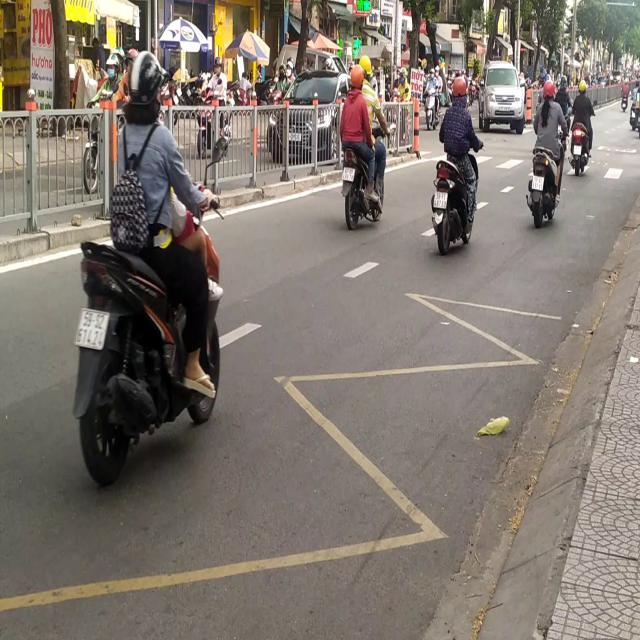bien_trang: (76, 301, 109, 352), (340, 164, 358, 186), (531, 170, 546, 195), (433, 187, 448, 210)
